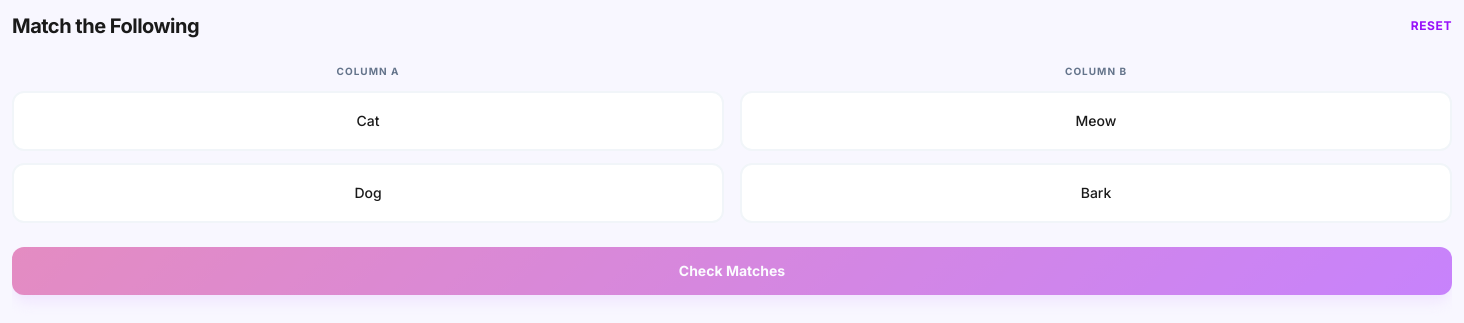
Test case: MatchCard › evaluates matches and shows the result label after clicking Check Matches
The image size is (1464, 323).
Click the button "Cat" at [368, 121], box [12,91,724,151]
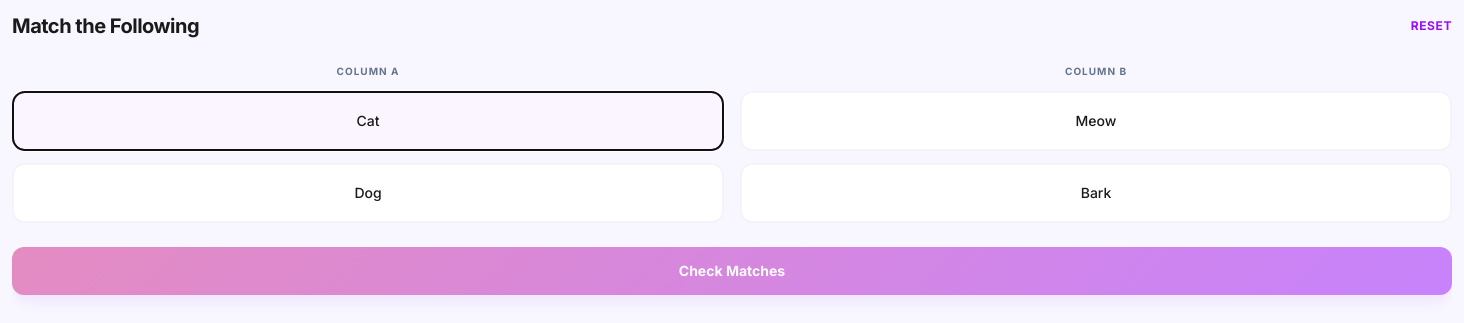
Click the button "Meow" at [1096, 121], box [740,91,1452,151]
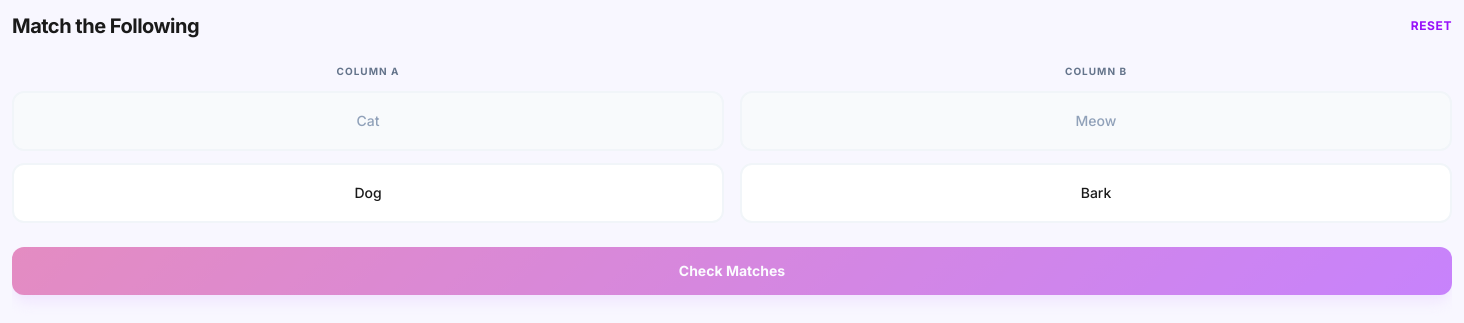
Click the button "Dog" at [368, 193], box [12,163,724,223]
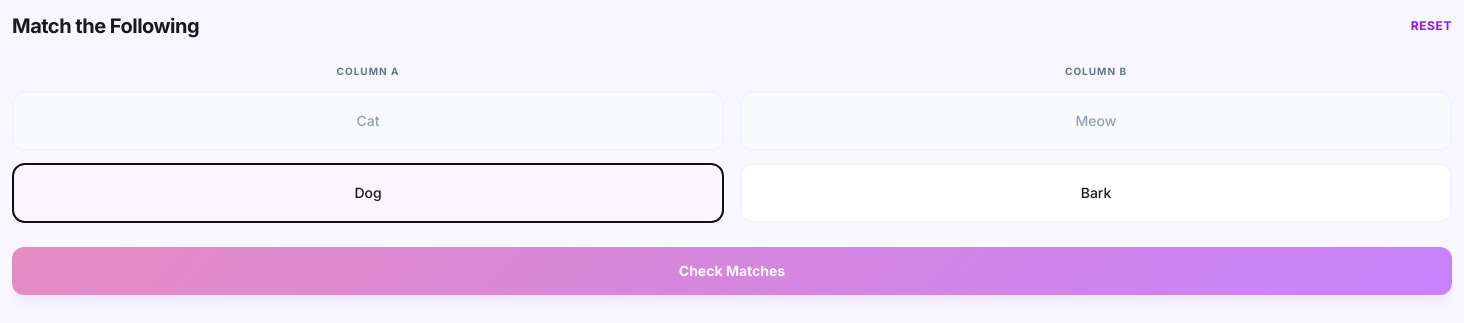
Click the button "Bark" at [1096, 193], box [740,163,1452,223]
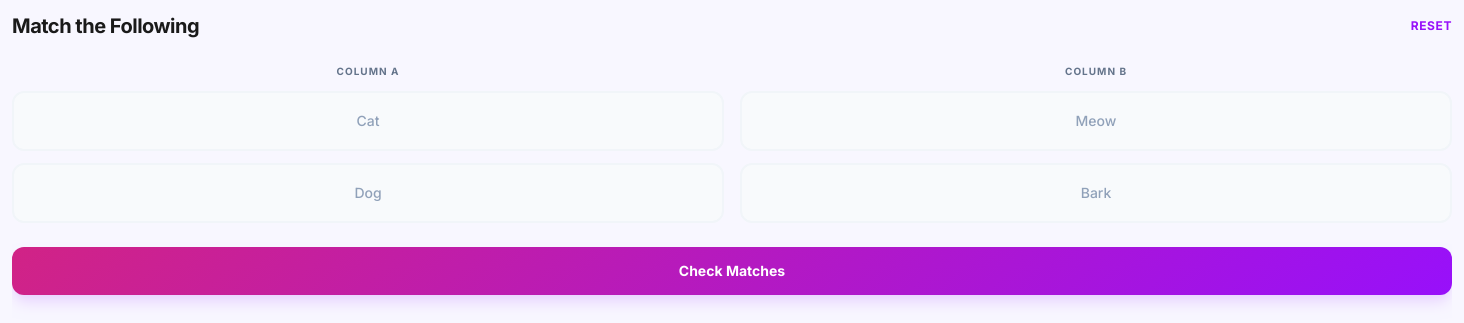
Click the button "Check Matches" at [732, 271], box [12,247,1452,295]
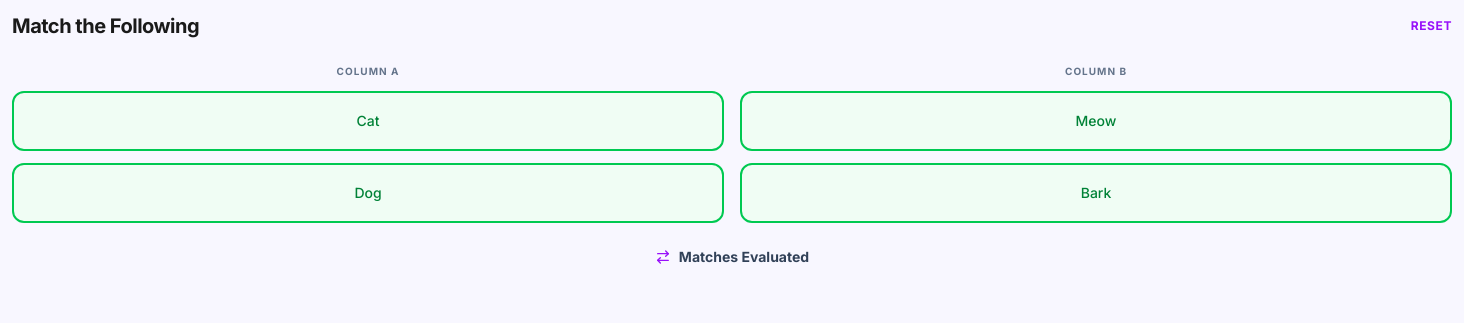
Expected: the text "Matches Evaluated" is shown, [679,247,809,267]
Expected: the button "Check Matches" is gone
